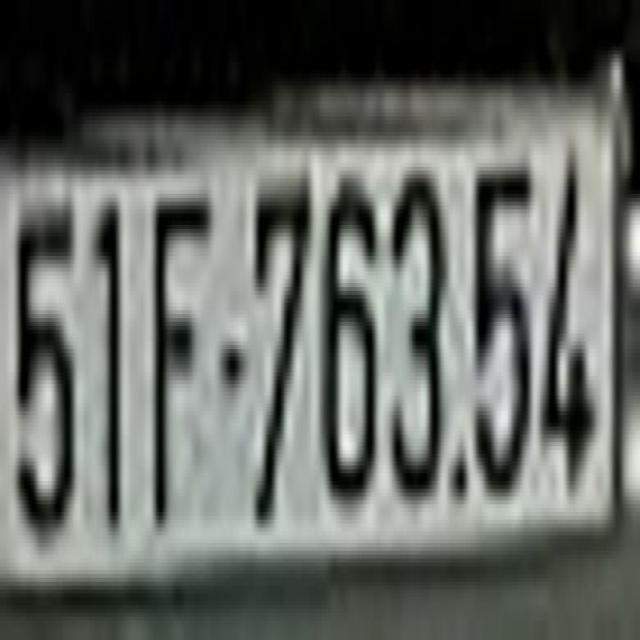1: (94, 184, 125, 537)
3: (389, 149, 445, 506)
4: (540, 130, 599, 502)
5: (471, 138, 534, 502), (14, 182, 78, 539)
6: (322, 161, 377, 510)
7: (252, 166, 311, 524)
F: (150, 180, 212, 530)
